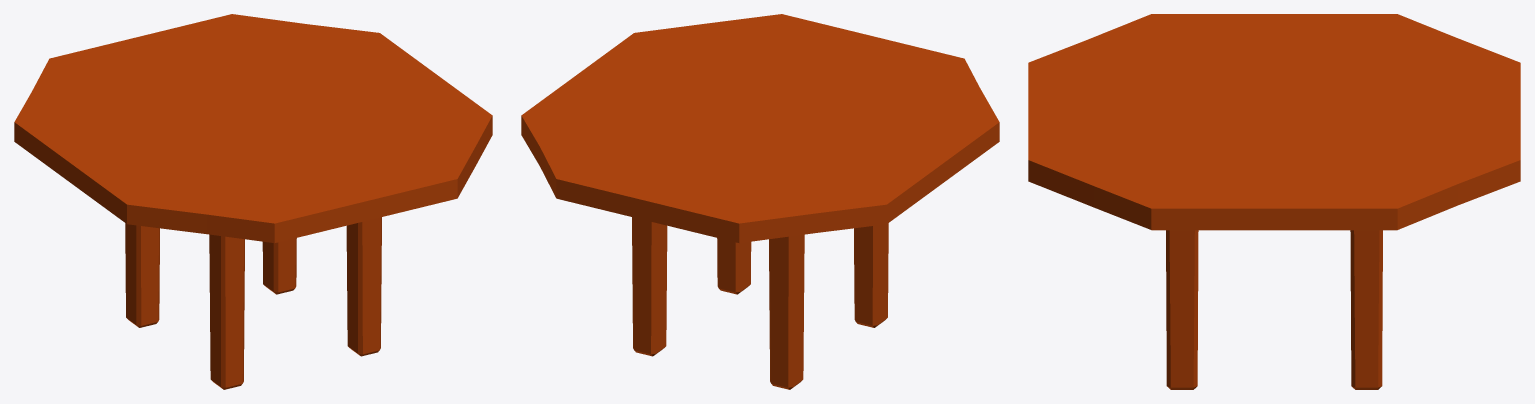
Rendered from Mesa.obj.
3 views of the same model, side by side, from view 1: azimuth 30°, elevation 25°; view 2: azimuth 150°, elevation 25°; view 3: azimuth 270°, elevation 25° (orthographic). The views are drawn at different scales.
Parts seen in each view (by area): view 1: Mesa.001; view 2: Mesa.001; view 3: Mesa.001.
Part boxes in pixels (x1,y1,x2,y2): Mesa.001: [14, 14, 492, 389]; Mesa.001: [521, 14, 999, 389]; Mesa.001: [1028, 14, 1520, 389].
Bounding box in the file's own units: 6.04 × 3.44 × 6.45.
